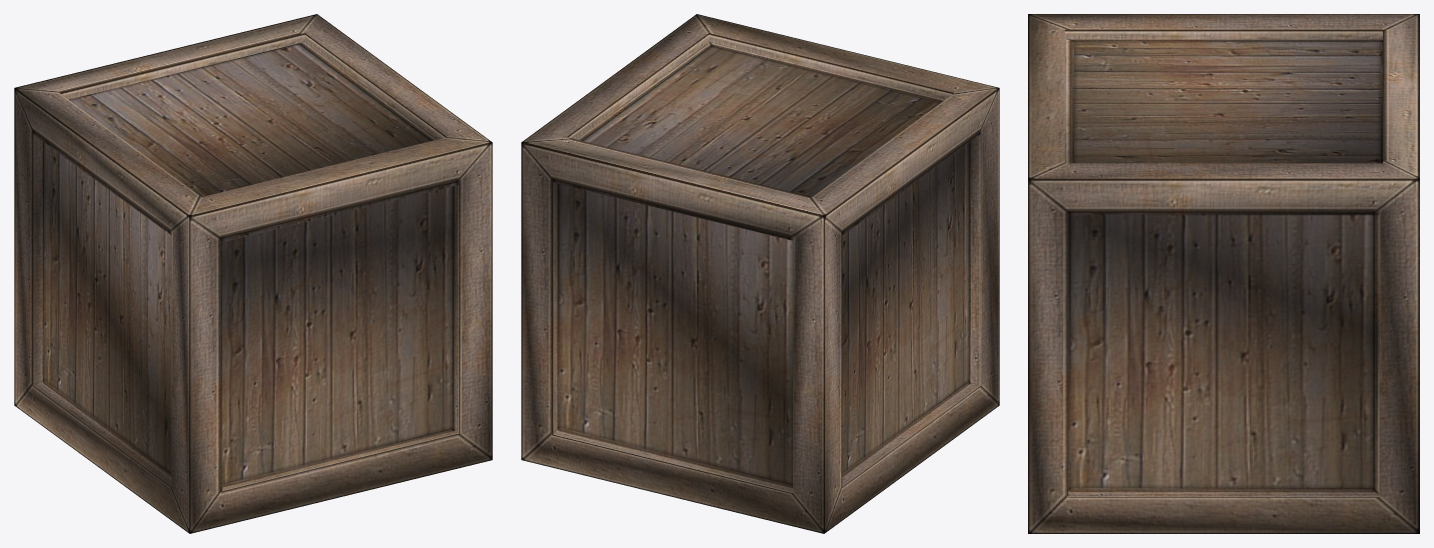
3 views of the same model, side by side, from view 1: azimuth 30°, elevation 25°; view 2: azimuth 150°, elevation 25°; view 3: azimuth 270°, elevation 25° (orthographic). The views are drawn at different scales.
Visible parts, largest first — view 1: SketchUp (×4); view 2: SketchUp (×4); view 3: SketchUp (×3).
Part boxes in pixels (x1,y1,x2,y2): SketchUp (×4): (14, 14, 492, 533); SketchUp (×4): (521, 14, 999, 533); SketchUp (×3): (1028, 14, 1419, 533).
Bounding box in the file's own units: 44.94 × 45.08 × 45.08.
1 material, 1 textured.
